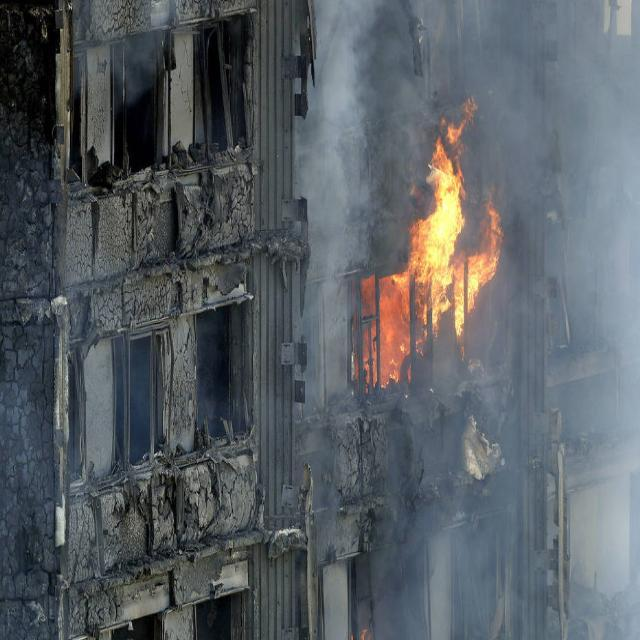Fire: (433, 96, 500, 331), (351, 211, 433, 398)
Smoke: (502, 4, 640, 640), (303, 401, 500, 640), (294, 3, 432, 208), (296, 209, 348, 397), (68, 0, 167, 97), (434, 2, 500, 94), (436, 335, 499, 400)
